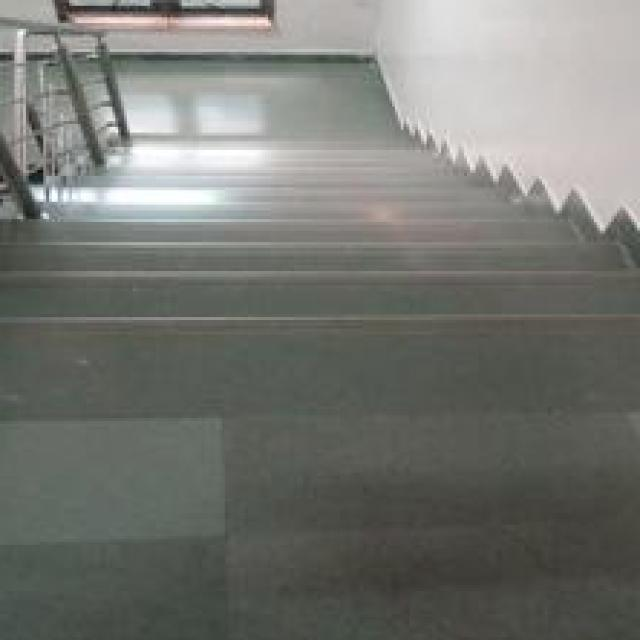downstair: (53, 160, 603, 367)
